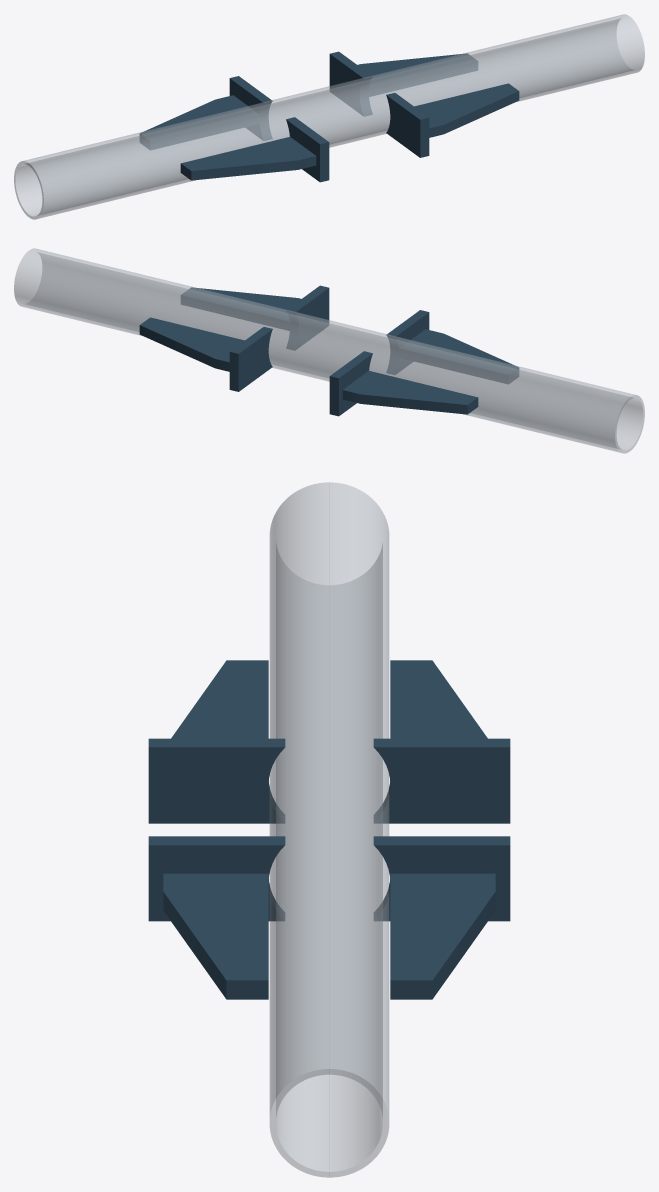
Rendered from TS-760.00.00-opora-dn57.glb.
3 renders of one model, top to bottom at view 1: azimuth 30°, elevation 25°; view 2: azimuth 150°, elevation 25°; view 3: azimuth 270°, elevation 25°, orthographic. The views are drawn at different scales.
Parts seen in each view (by area): view 1: truba, upor_4, upor_8, upor_6, upor_2, upor_1, upor_5, upor_3, upor_7; view 2: truba, upor_8, upor_4, upor_2, upor_6, upor_5, upor_1, upor_7, upor_3; view 3: truba, upor_3, upor_7, upor_2, upor_6, upor_1, upor_5, upor_4, upor_8.
Part boxes in pixels (left/top/right/bottom): truba: left=14, top=14, right=644, bottom=219; upor_4: left=180, top=137, right=316, bottom=180; upor_8: left=139, top=95, right=259, bottom=149; upor_6: left=358, top=53, right=477, bottom=96; upor_2: left=414, top=83, right=519, bottom=137; upor_1: left=386, top=93, right=429, bottom=157; upor_5: left=329, top=51, right=372, bottom=116; upor_3: left=286, top=117, right=329, bottom=182; upor_7: left=229, top=76, right=272, bottom=140; truba: left=14, top=248, right=644, bottom=453; upor_8: left=342, top=371, right=478, bottom=414; upor_4: left=399, top=329, right=519, bottom=383; upor_2: left=181, top=287, right=300, bottom=330; upor_6: left=139, top=317, right=244, bottom=371; upor_5: left=229, top=327, right=272, bottom=391; upor_1: left=286, top=285, right=329, bottom=350; upor_7: left=329, top=351, right=372, bottom=416; upor_3: left=386, top=310, right=429, bottom=374; truba: left=269, top=482, right=389, bottom=1177; upor_3: left=148, top=738, right=285, bottom=823; upor_7: left=373, top=738, right=510, bottom=823; upor_2: left=163, top=873, right=268, bottom=999; upor_6: left=390, top=873, right=495, bottom=999; upor_1: left=148, top=836, right=285, bottom=921; upor_5: left=373, top=836, right=510, bottom=921; upor_4: left=171, top=660, right=268, bottom=738; upor_8: left=390, top=660, right=487, bottom=738.
Bounding box in the file's own units: 660 × 57 × 172.
